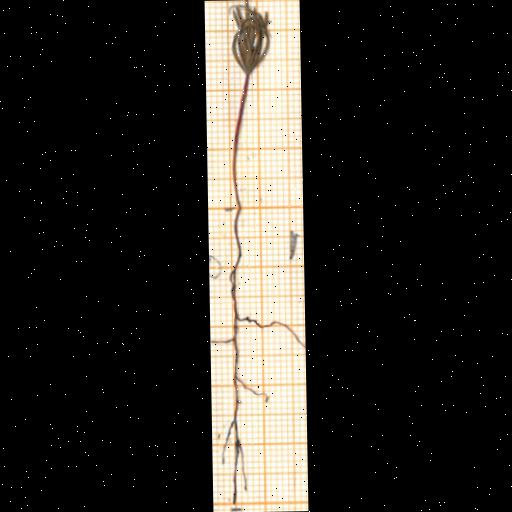flowerPinus: (231, 5, 268, 75)
rootPinus: (220, 213, 304, 505)
stemPinus: (231, 75, 247, 211)
